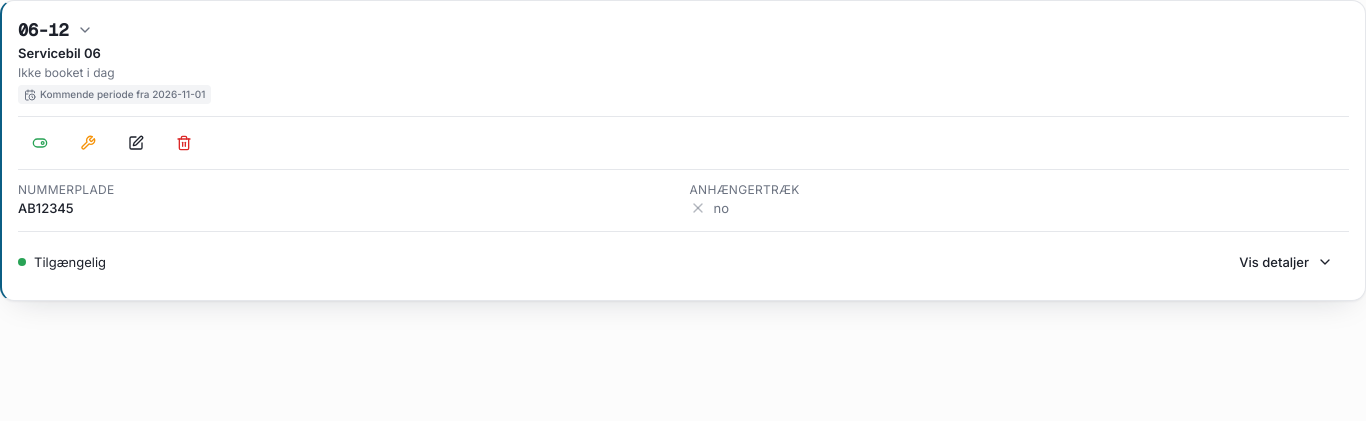
Test: car details are keyboard-operable and schedule/edit callbacks are preserved
This screenshot has width=1366, height=421.
Later steps or results of the test are not shown.
Click the button "Vis detaljer".
click(1286, 262)  # box [1223, 240, 1349, 284]
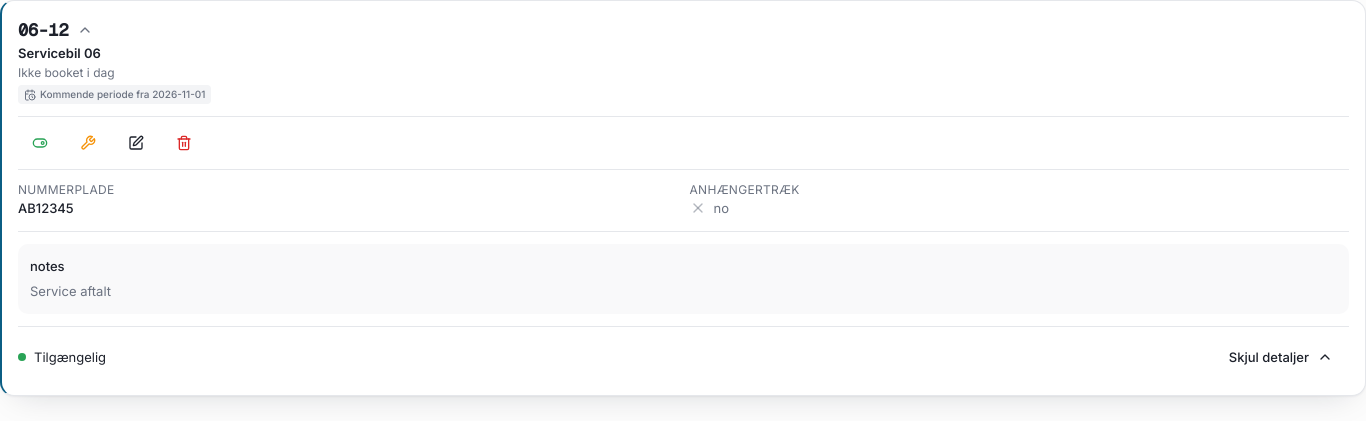
Check: the button "Skjul detaljer" is expanded, box [1213, 335, 1349, 379]
Check: the text "Service aftalt" is shown, box [30, 283, 111, 299]
